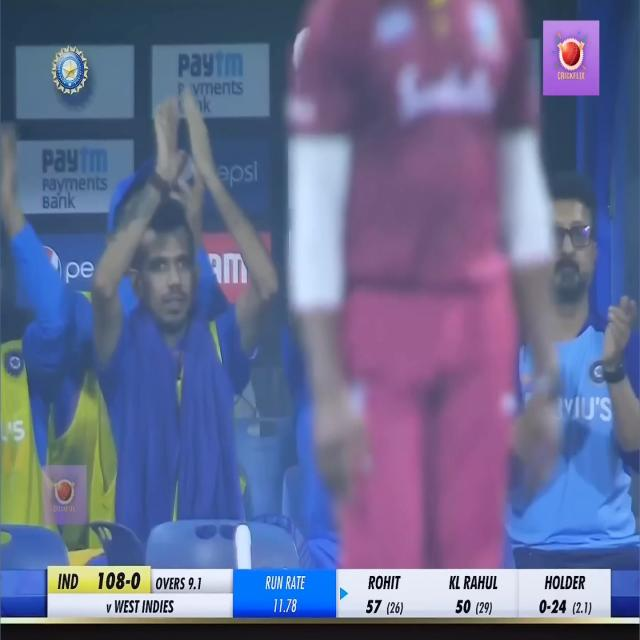fully_visible: (174, 44, 249, 81), (43, 144, 111, 178)
